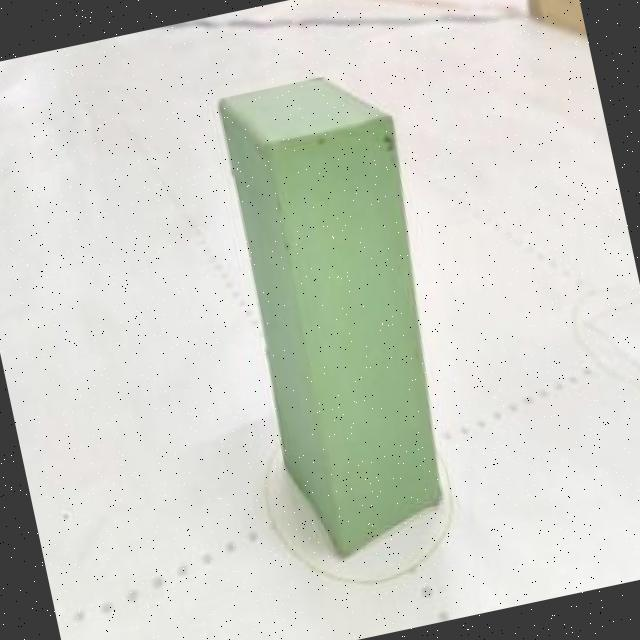greenbox: (199, 57, 484, 570)
